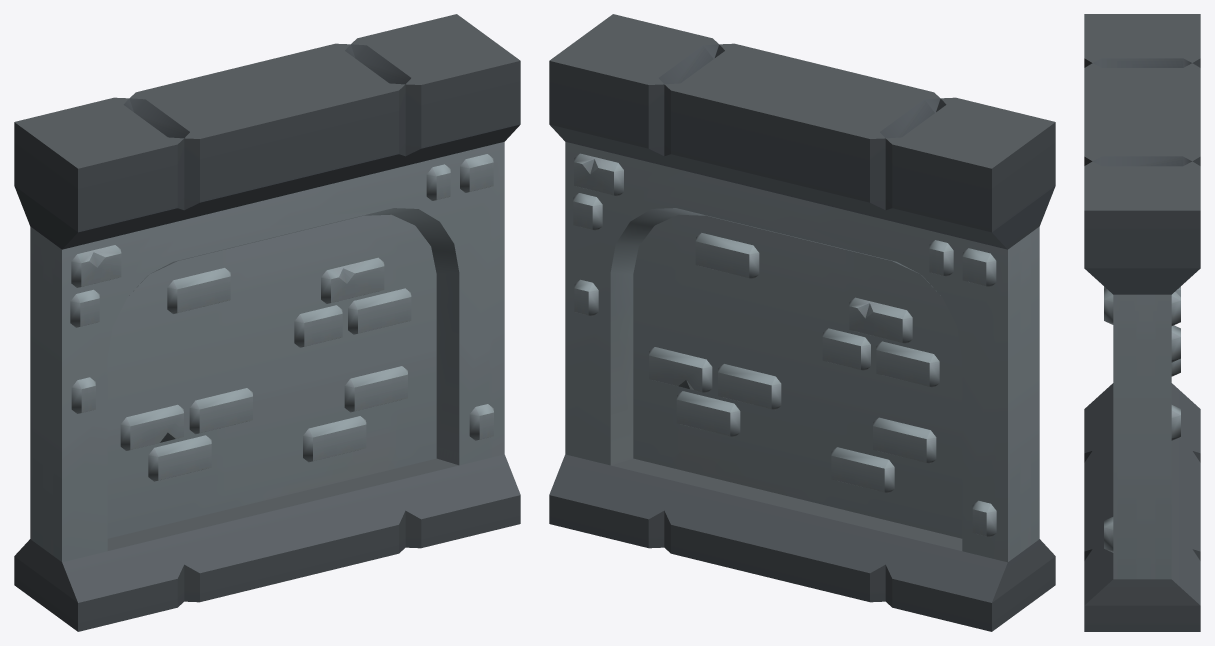
Rendered from wall_arched.gltf.glb.
3 renders of one model, left to right at view 1: azimuth 30°, elevation 25°; view 2: azimuth 150°, elevation 25°; view 3: azimuth 270°, elevation 25°, orthographic. The views are drawn at different scales.
Parts seen in each view (by area): view 1: wall_arched; view 2: wall_arched; view 3: wall_arched.
Part boxes in pixels (box(x1,y1,x2,y2)): wall_arched: box(14, 14, 520, 631); wall_arched: box(549, 14, 1055, 631); wall_arched: box(1084, 14, 1200, 631).
Bounding box in the file's own units: 4 × 4 × 1.
1 material, 1 textured.
